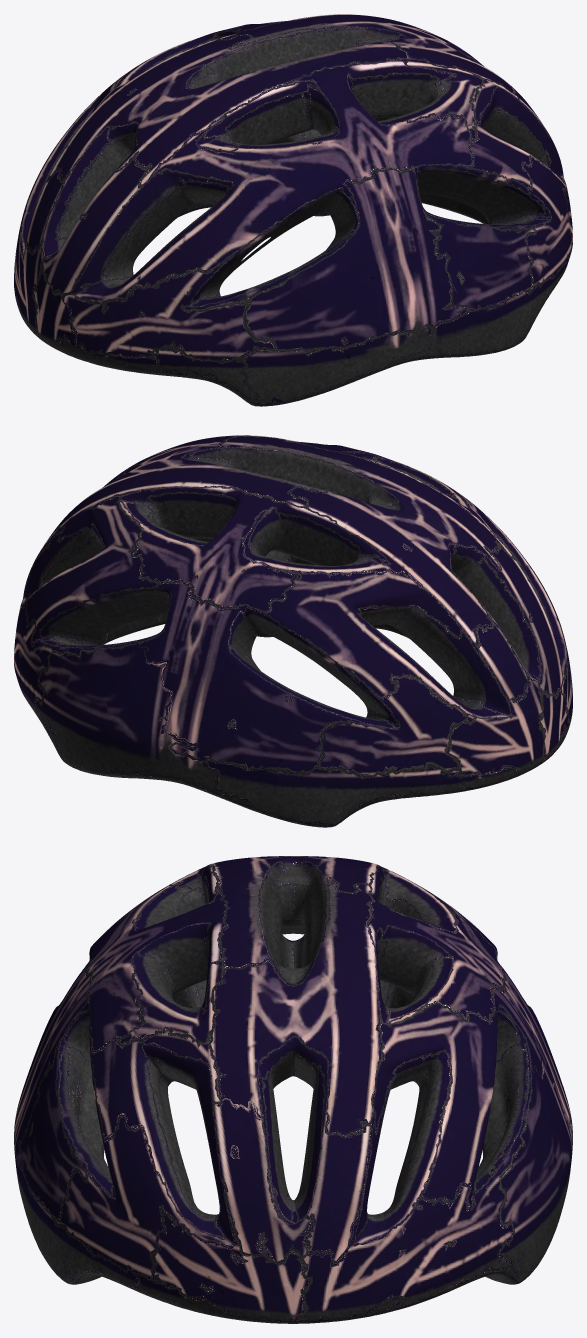
3 renders of one model, top to bottom at view 1: azimuth 30°, elevation 25°; view 2: azimuth 150°, elevation 25°; view 3: azimuth 270°, elevation 25°, orthographic. The views are drawn at different scales.
Size of the model in its own units: 1.88 by 0.9208 by 1.52.
Materials: 1 (1 with a texture image).
